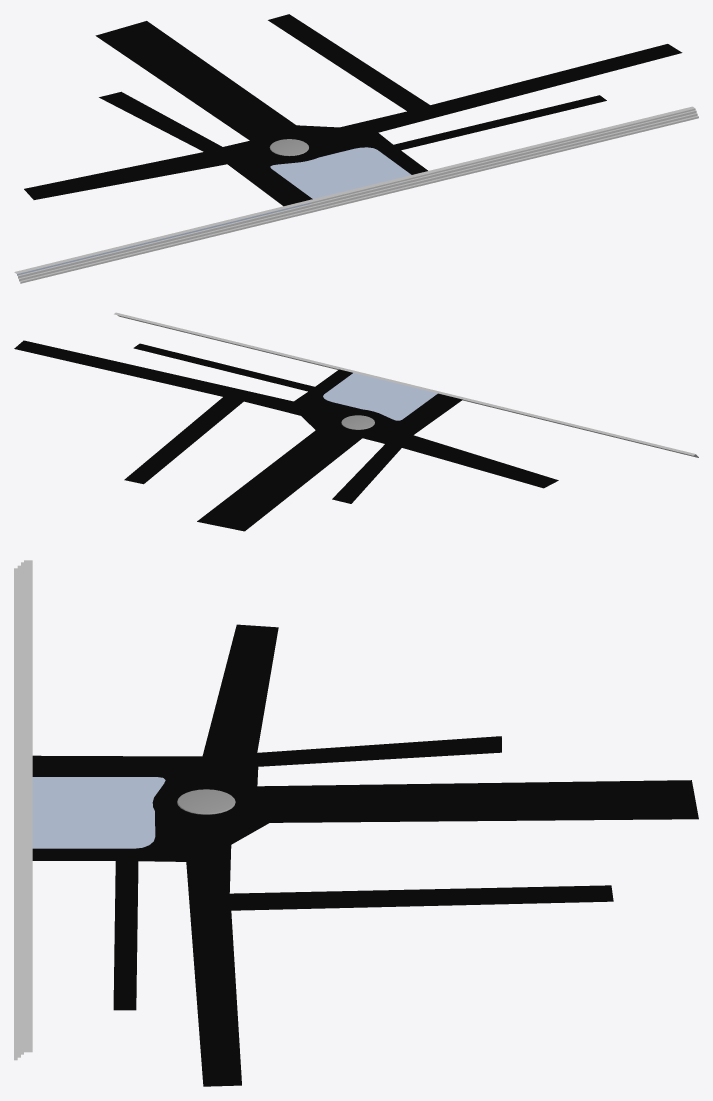
File: MS_Ground.fbx
3 renders of one model, top to bottom at view 1: azimuth 30°, elevation 25°; view 2: azimuth 150°, elevation 25°; view 3: azimuth 270°, elevation 25°, orthographic. The views are drawn at different scales.
Parts seen in each view (by area): view 1: Plane.001, Plane, Plane.002; view 2: Plane.001, Plane.002, Plane; view 3: Plane.001, Plane, Plane.002.
Part boxes in pixels (x1,y1,x2,y2): Plane.001: [24, 14, 682, 206]; Plane: [14, 106, 698, 283]; Plane.002: [270, 147, 411, 198]; Plane.001: [14, 340, 558, 531]; Plane.002: [323, 373, 437, 420]; Plane: [114, 312, 698, 457]; Plane.001: [32, 624, 698, 1086]; Plane: [14, 560, 32, 1060]; Plane.002: [32, 777, 165, 848].
Bounding box in the file's own units: 28249 × 15537 × 297.
